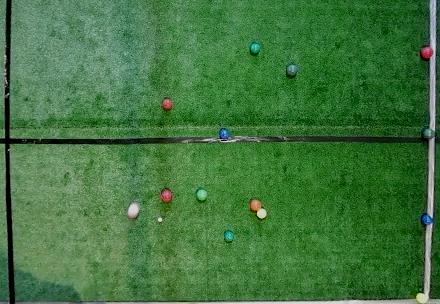blue: (421, 215, 433, 226), (219, 129, 230, 138)
green: (423, 128, 436, 140), (196, 189, 208, 202), (286, 64, 298, 76), (250, 42, 260, 54), (224, 231, 234, 242)
red: (127, 202, 139, 218), (160, 189, 173, 202), (249, 198, 262, 211), (421, 46, 434, 58), (162, 99, 173, 110)
vline: (1, 1, 16, 303), (423, 224, 439, 293), (426, 137, 439, 215), (427, 57, 439, 128), (427, 1, 439, 46)
white: (158, 217, 162, 222)
yellow: (416, 293, 429, 303), (256, 208, 267, 219)
